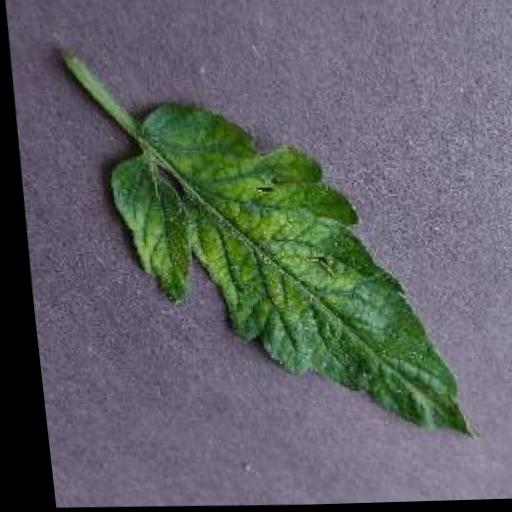Mosaic Virus: (95, 93, 466, 452)
